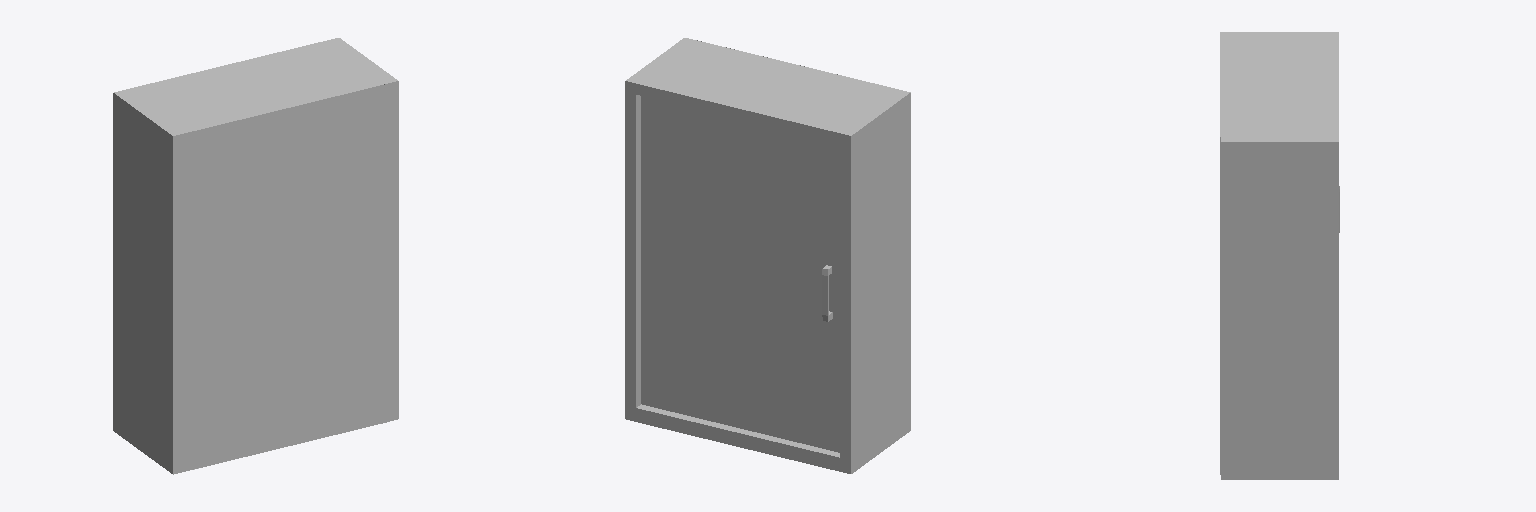
File: Bookshelf08.obj
The picture shows the model from 3 angles: view 1: azimuth 30°, elevation 25°; view 2: azimuth 150°, elevation 25°; view 3: azimuth 270°, elevation 25°; orthographic projection.
Visible parts, largest first — view 1: Bookshelf08_LOD0_Bookshelf08.001; view 2: Bookshelf08_LOD0_Bookshelf08.001; view 3: Bookshelf08_LOD0_Bookshelf08.001.
Part boxes in pixels (x1,y1,x2,y2): Bookshelf08_LOD0_Bookshelf08.001: (113, 38, 398, 474); Bookshelf08_LOD0_Bookshelf08.001: (625, 38, 910, 473); Bookshelf08_LOD0_Bookshelf08.001: (1220, 32, 1339, 479).
Bounding box in the file's own units: 0.7159 × 1.02 × 0.329.